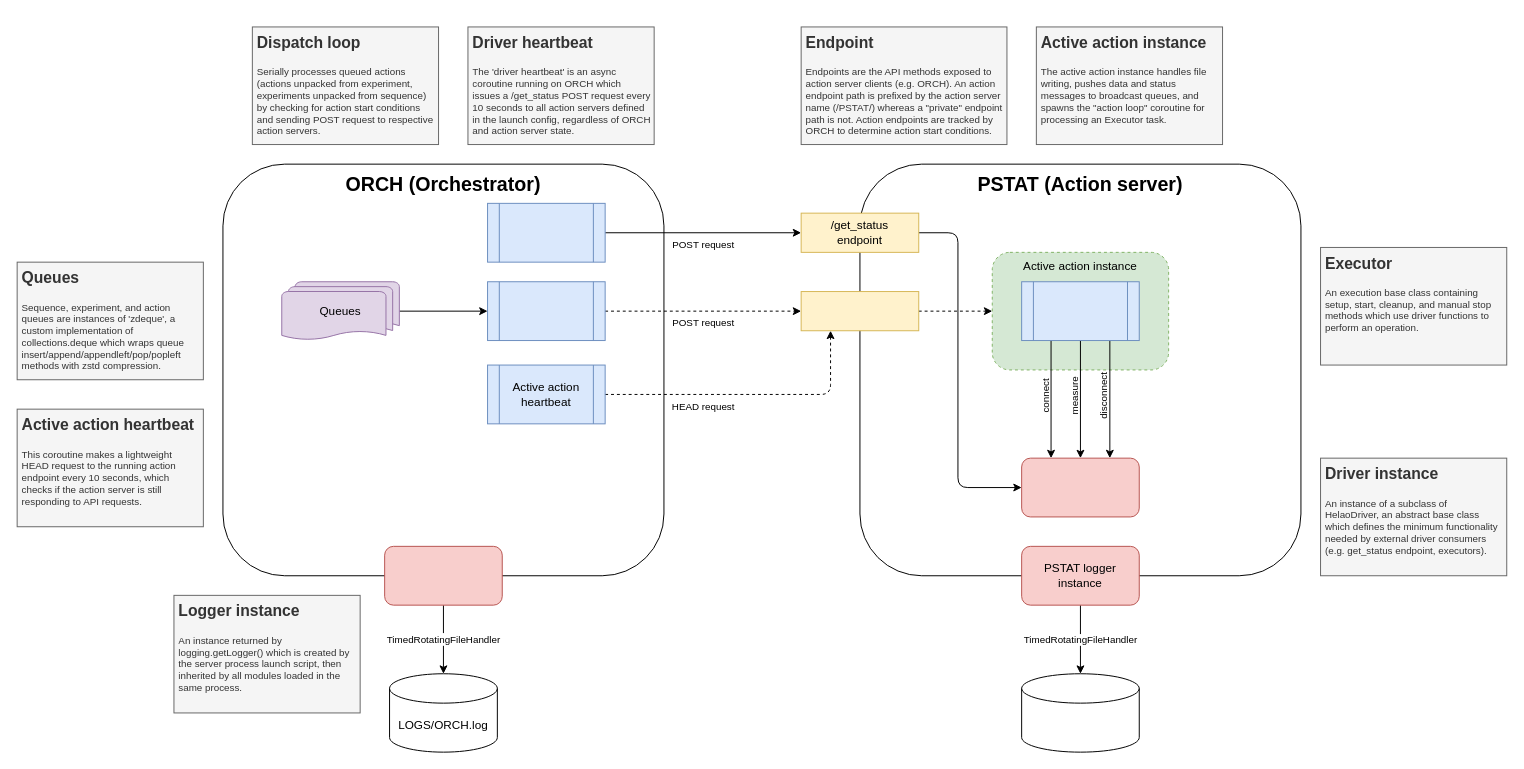
Image size: 1524x769. Some labels were removed from this diagram. The centre of each missing label's shape, as x and y in pixels:
/PSTAT/run_CV endpoint: the point at 859,311
Dispatch loop: the point at 546,311
Driver heartbeat: the point at 546,232
Gamry driver instance: the point at 1080,487
LOGS/PSTAT.log: the point at 1080,712
ORCH logger instance: the point at 443,575
run_CV executor: the point at 1080,311
